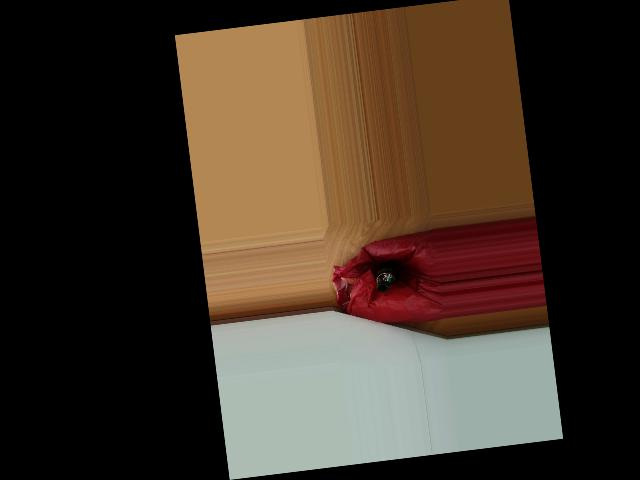beer: (373, 260, 400, 292)
